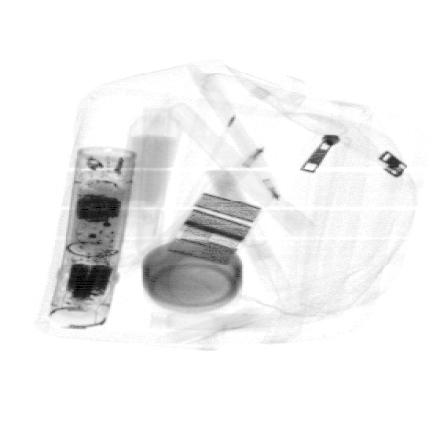Baton: (44, 145, 140, 332)
